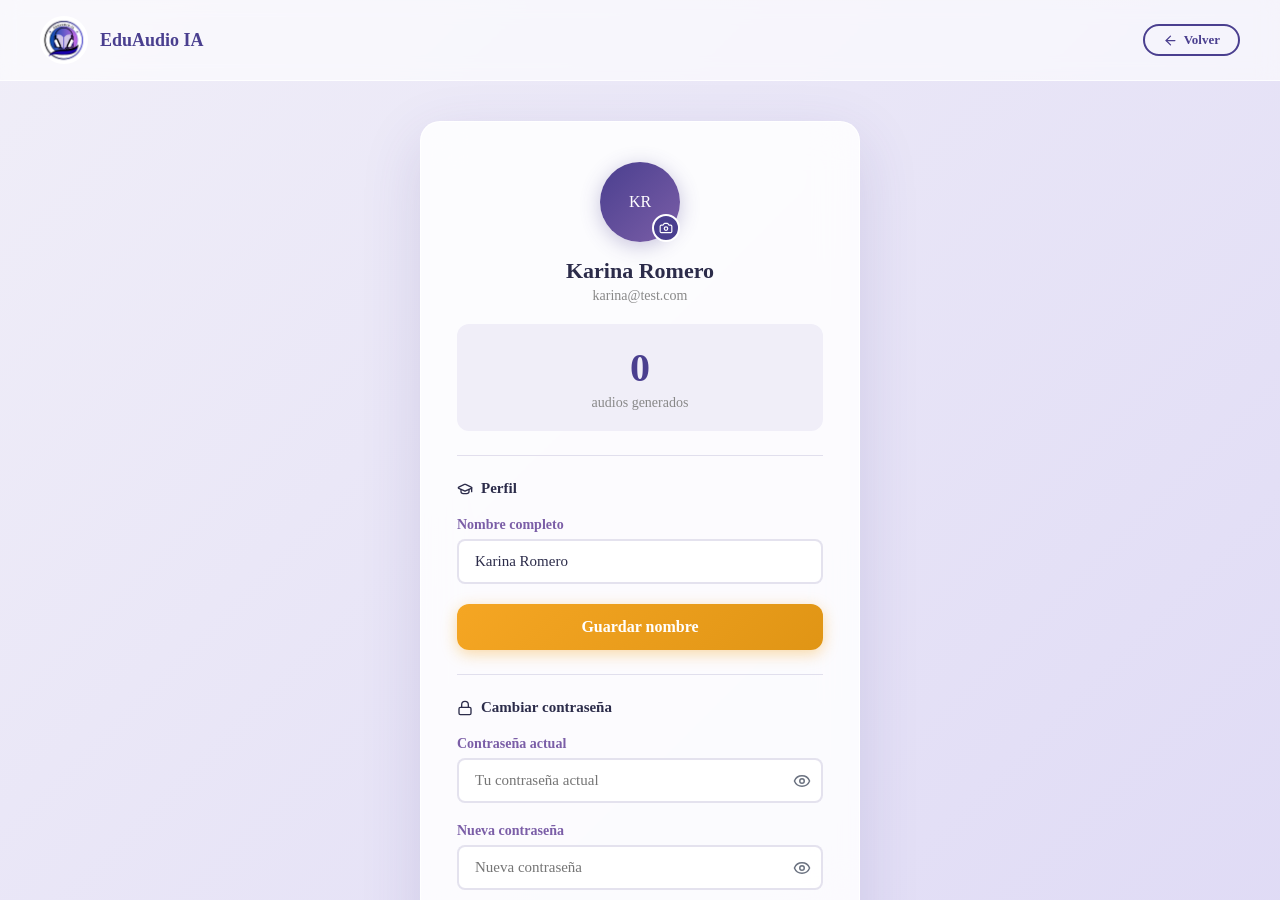
Test: Perfil › detecta contraseñas diferentes
Type "12345678" into the password field with placeholder "Tu contraseña actual".
click(640, 780); type("12345678")  # box [457,758,823,803]
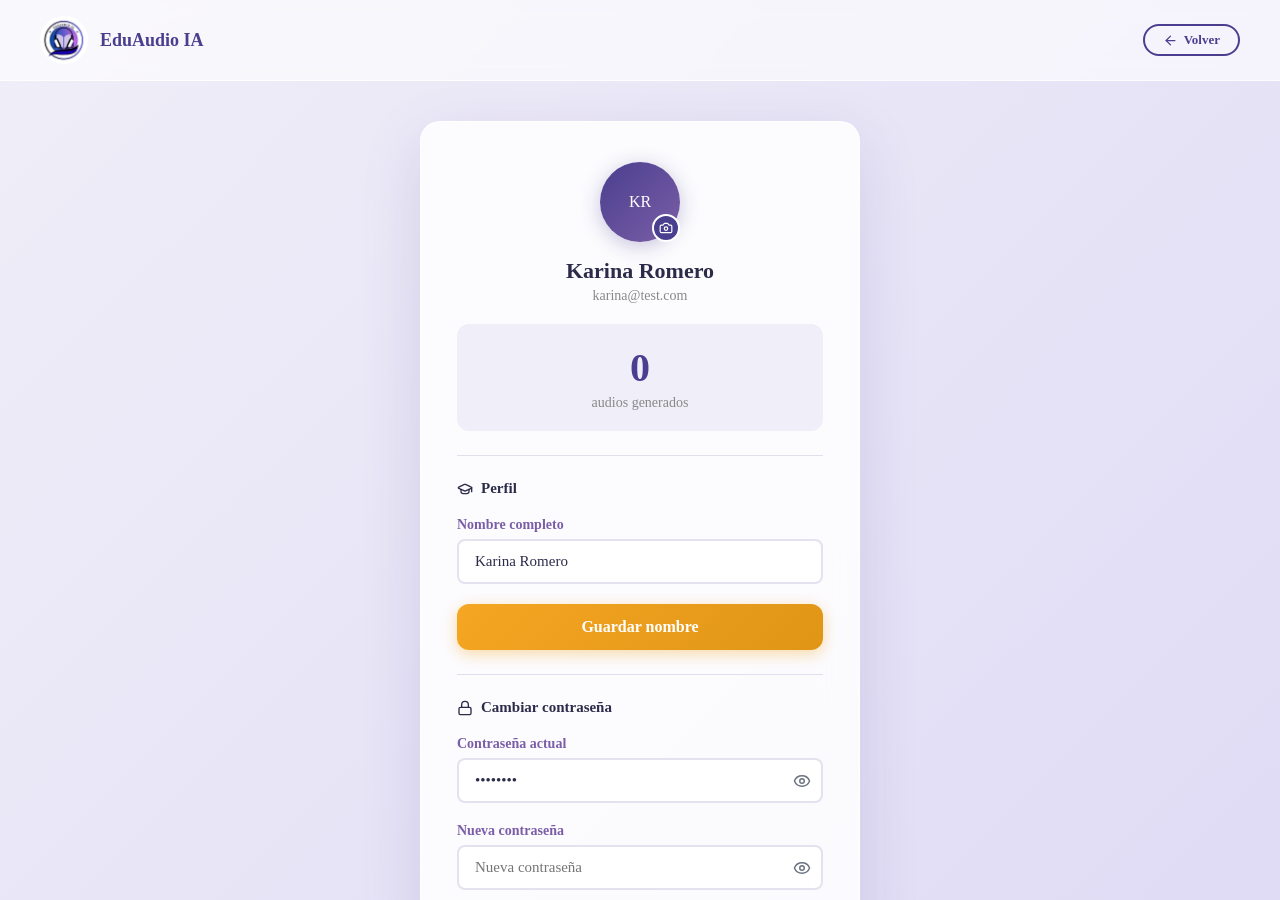
Type "password123" into the password field with placeholder "Nueva contraseña".
click(640, 868); type("password123")  # box [457,845,823,890]
(page scrolled)
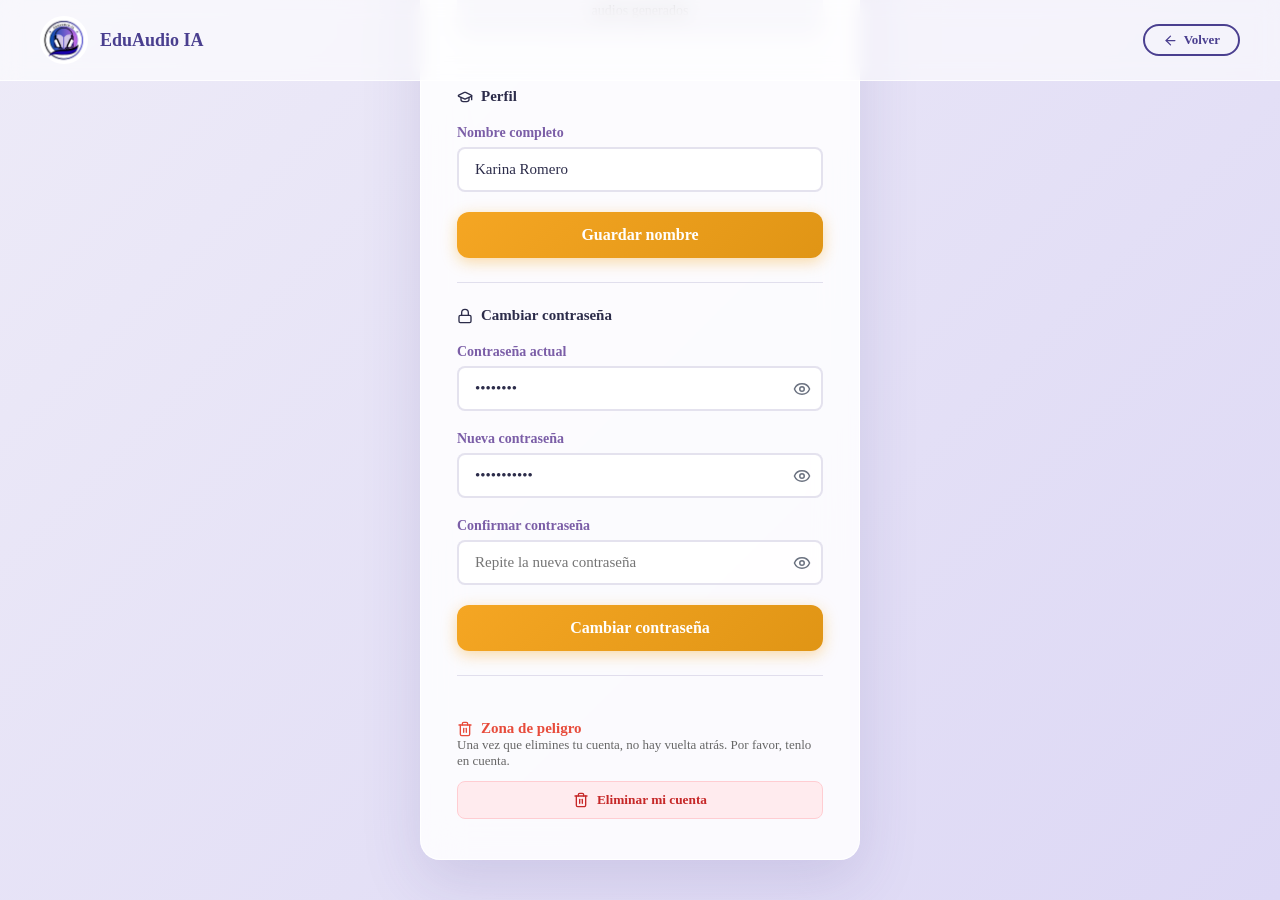
Type "password456" into the password field with placeholder "Repite la nueva contraseña".
click(640, 562); type("password456")  # box [457,540,823,585]
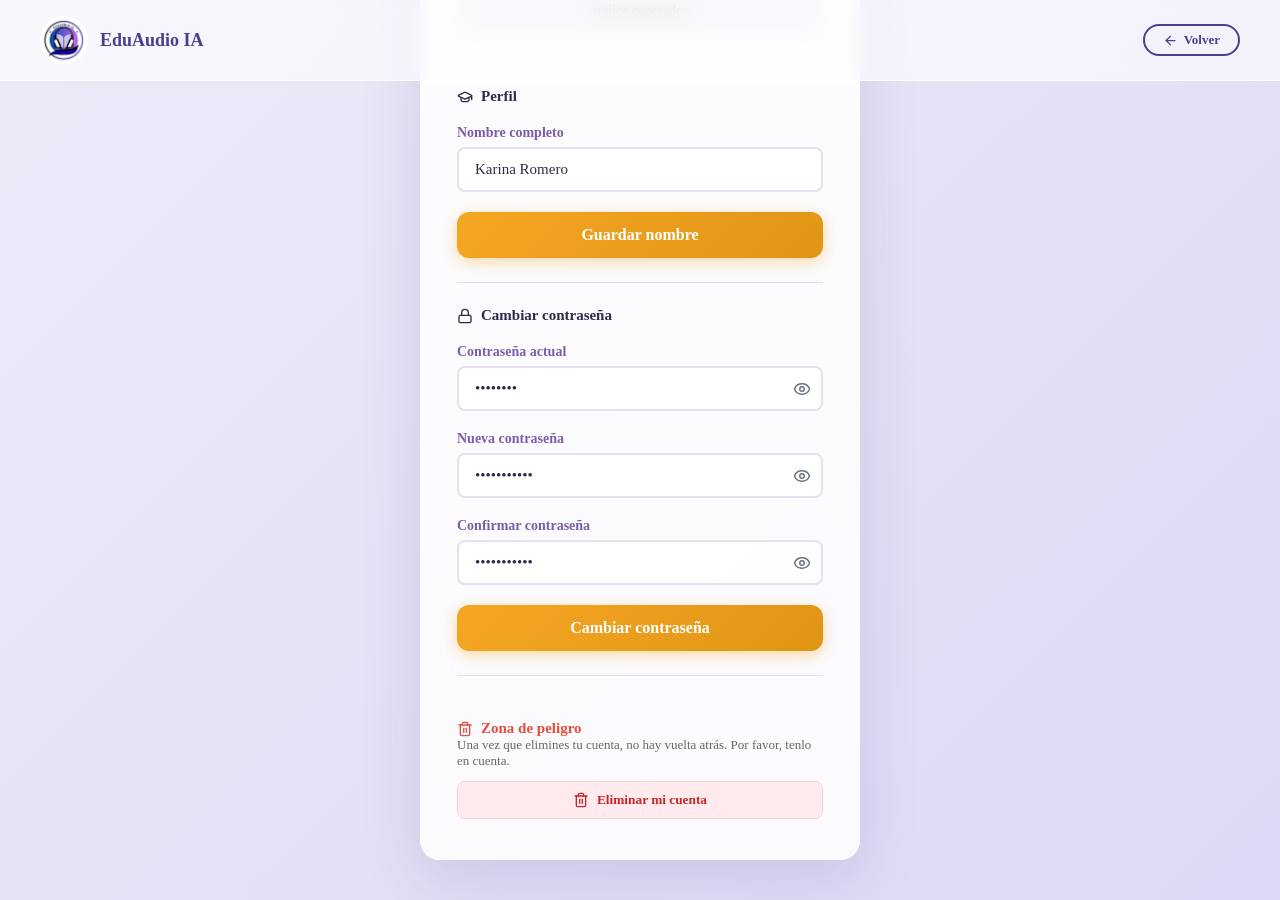
Click the button "Cambiar contraseña".
click(640, 628)  # box [457,605,823,651]
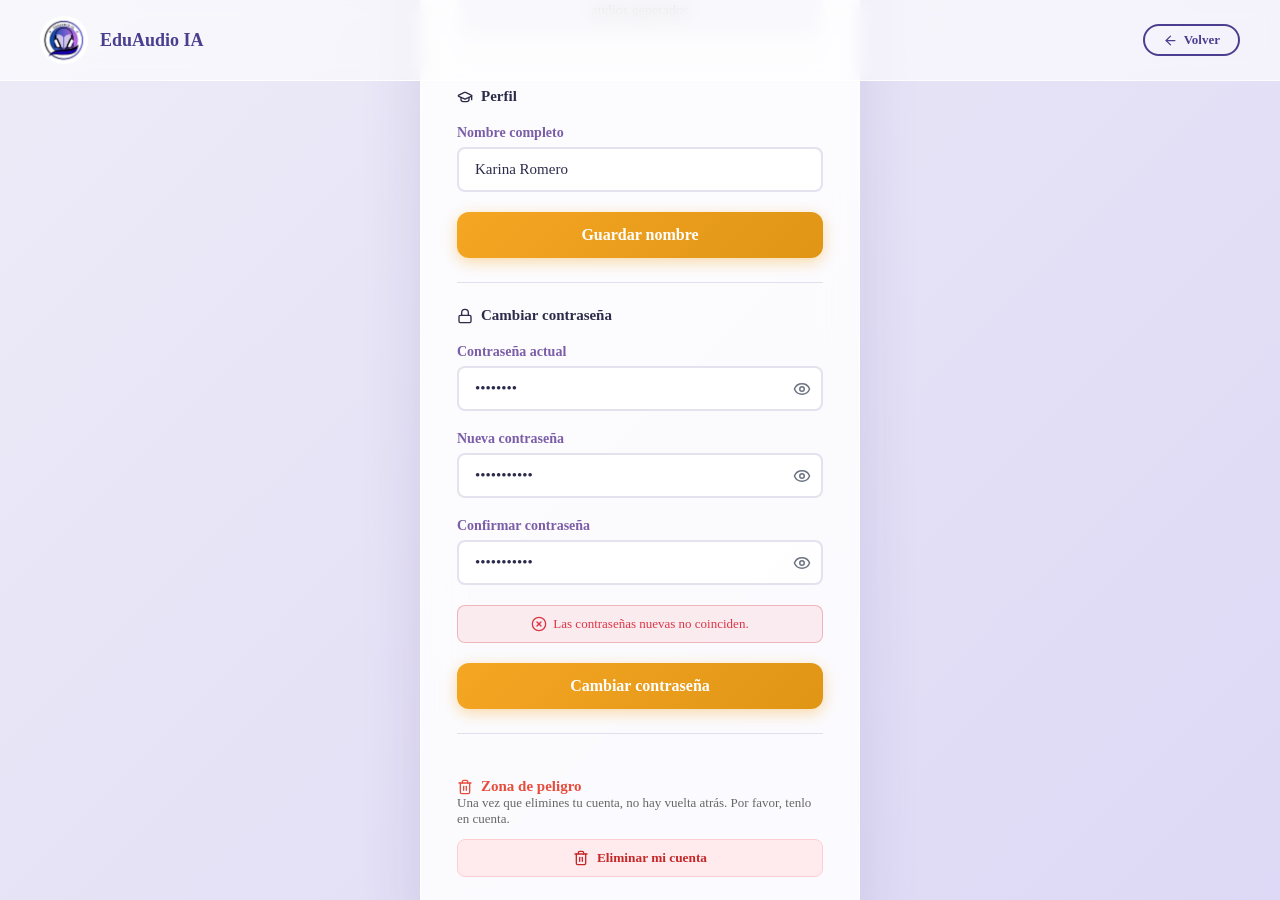
Check: the text "Las contraseñas nuevas no coinciden." is shown, box [457,605,823,643]
